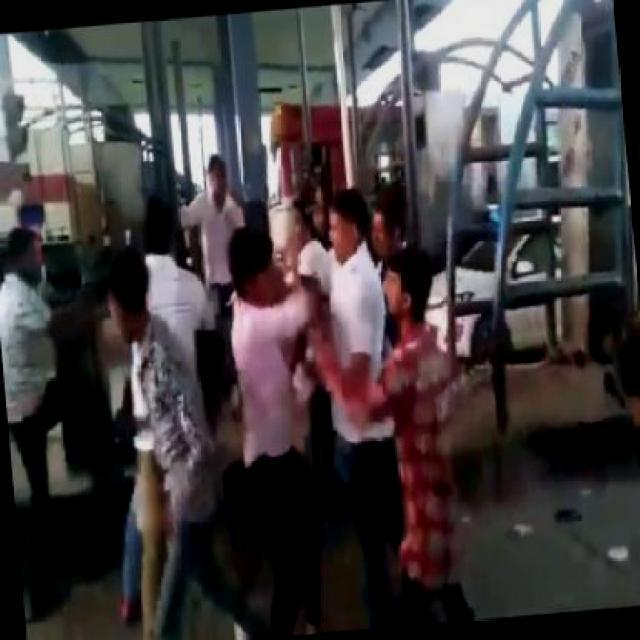fight: (221, 187, 402, 516)
